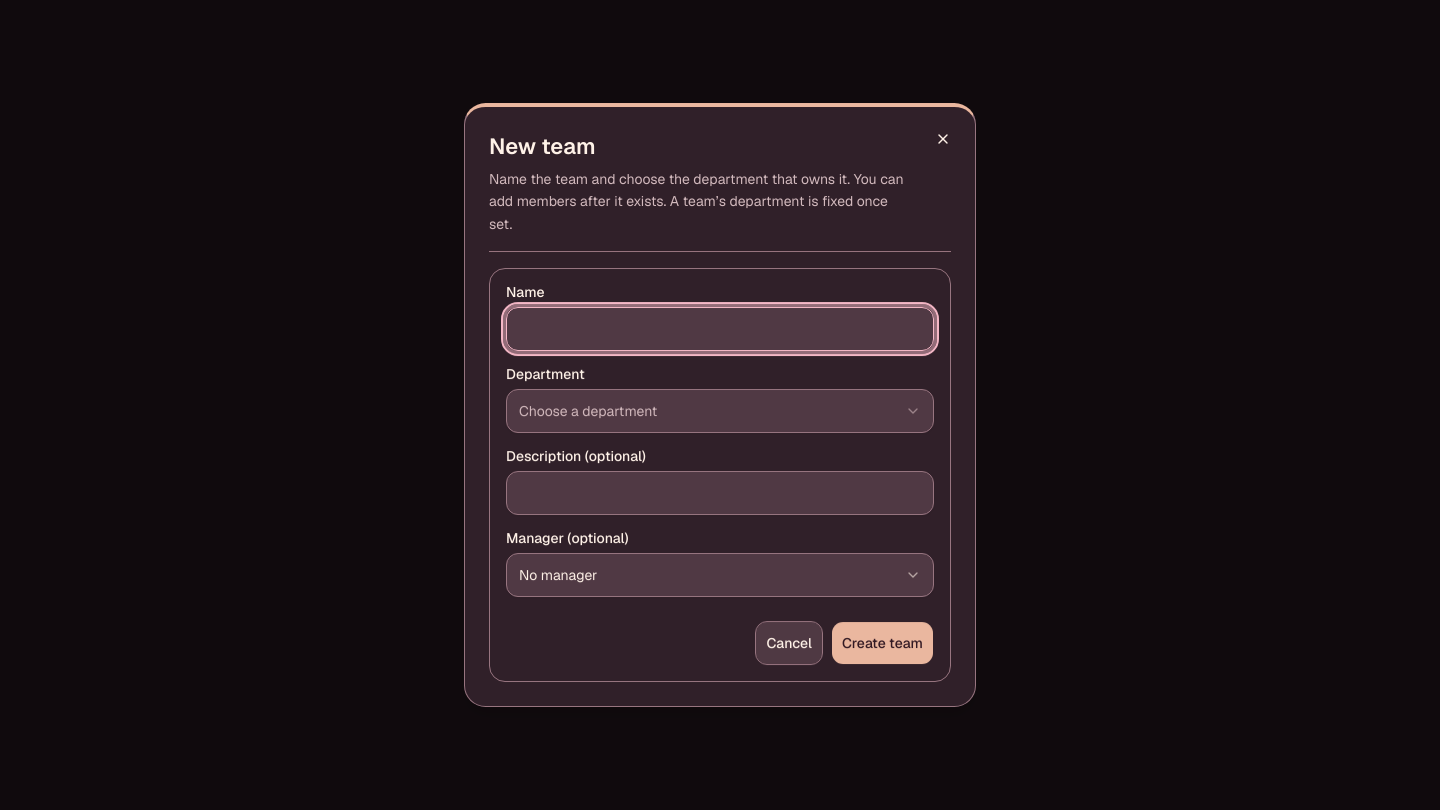
Scenario: CreateTeamDialog › blocks submission until a department is chosen
Type "Production Team" into the field labelled "Name" at (720, 329), box [506,307,934,351]
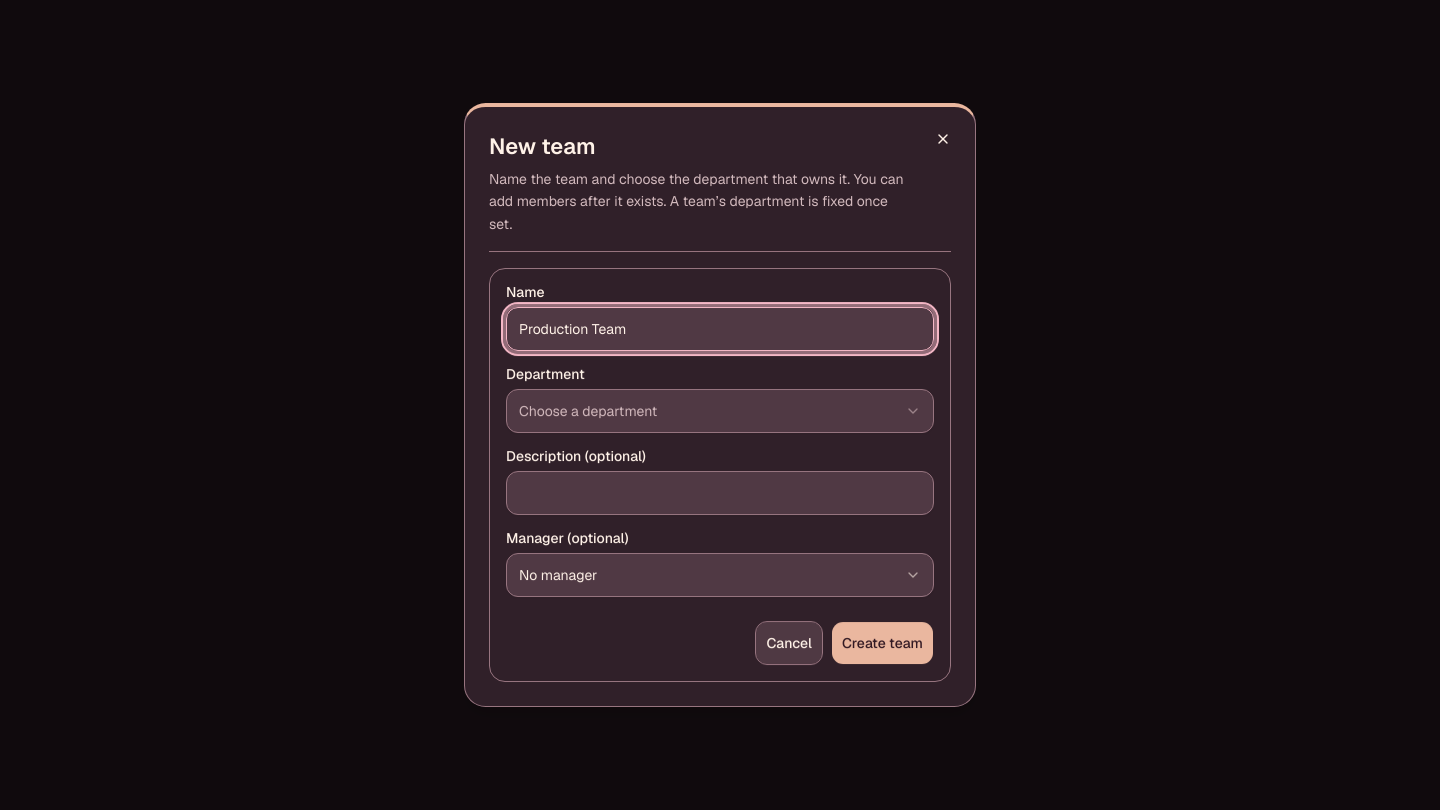
Click the button "Create team" at (882, 643), box [831,621,934,665]
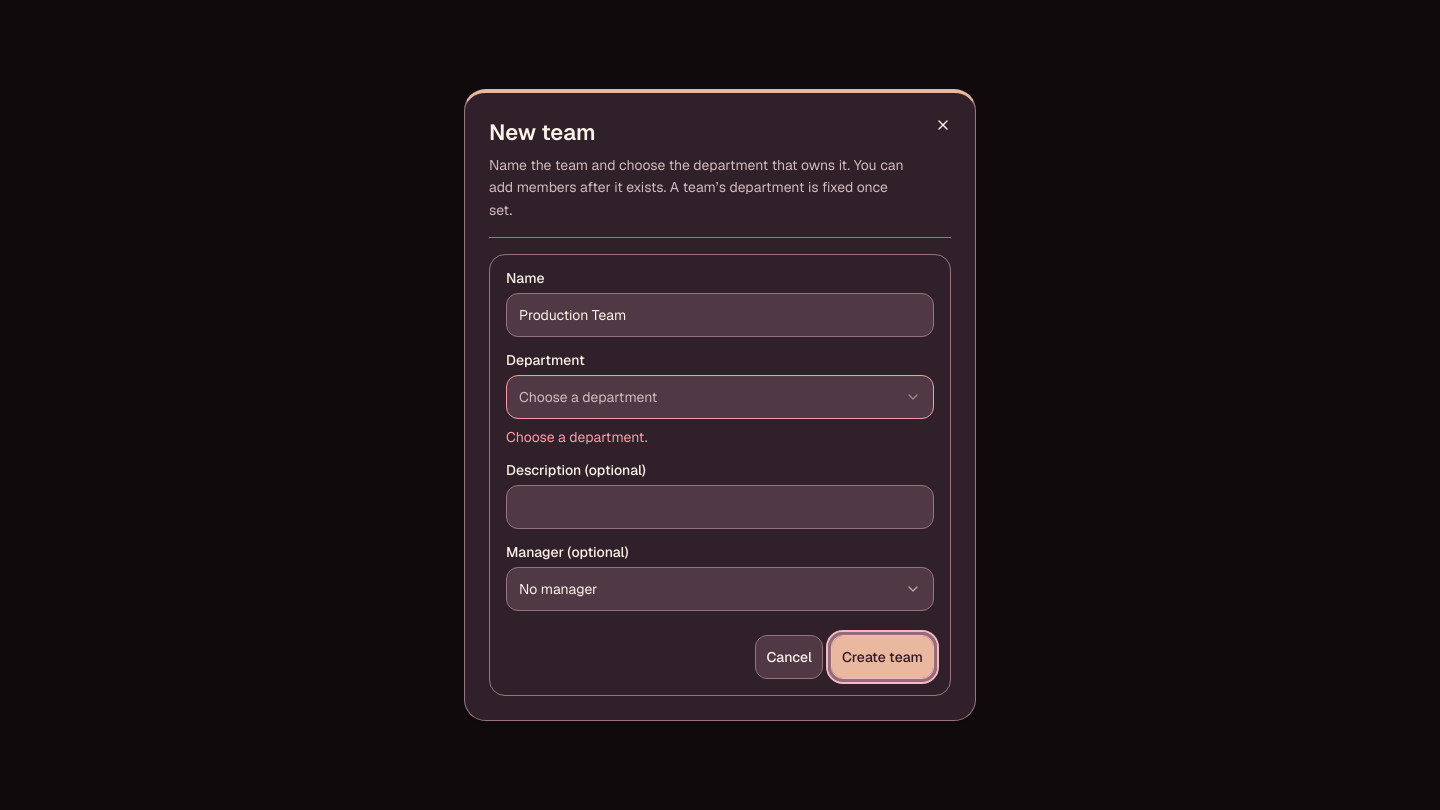
Expected: the text "Choose a department." is shown, [506,428,648,446]
